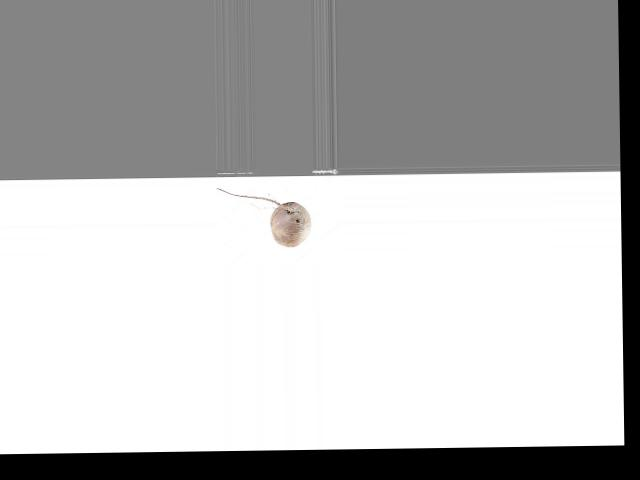beet: (216, 186, 310, 247)
